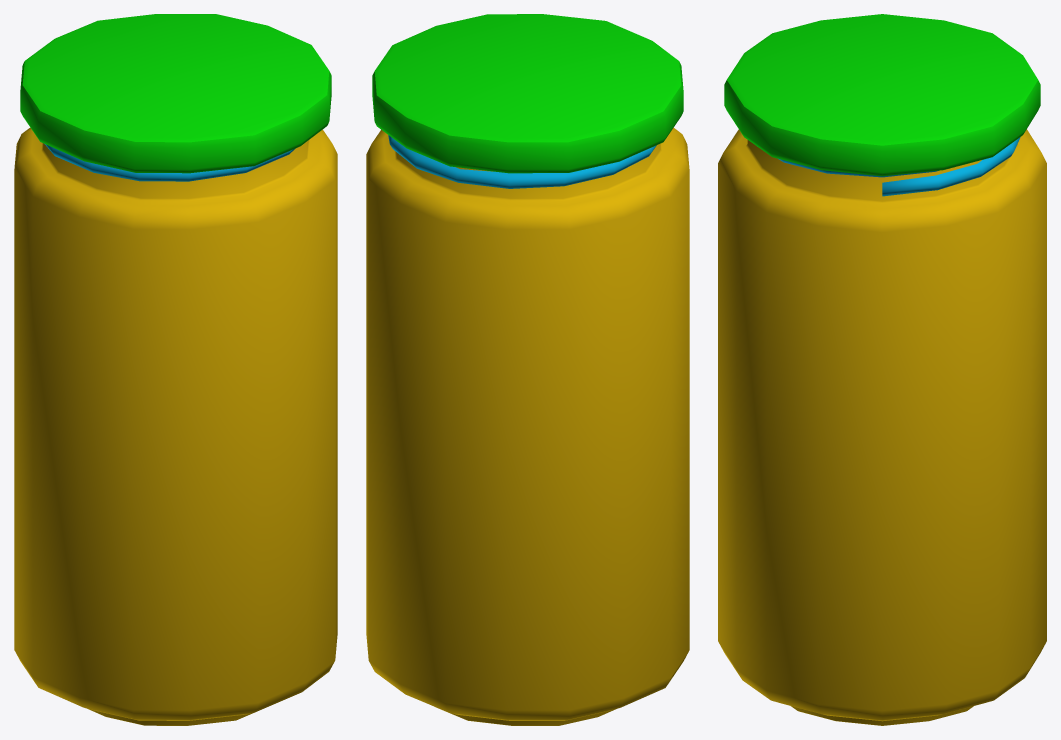
The model's file is Glass Bottle 02.fbx.
3 views of the same model, side by side, from view 1: azimuth 30°, elevation 25°; view 2: azimuth 150°, elevation 25°; view 3: azimuth 270°, elevation 25° (orthographic).
Parts seen in each view (by area): view 1: Glass_bottle_02; view 2: Glass_bottle_02; view 3: Glass_bottle_02.
Part boxes in pixels (box(x1,y1,x2,y2)): Glass_bottle_02: box(14, 14, 337, 725); Glass_bottle_02: box(366, 14, 689, 725); Glass_bottle_02: box(718, 14, 1046, 725).
Size of the model in its own units: 14.8 by 29.68 by 14.8.
